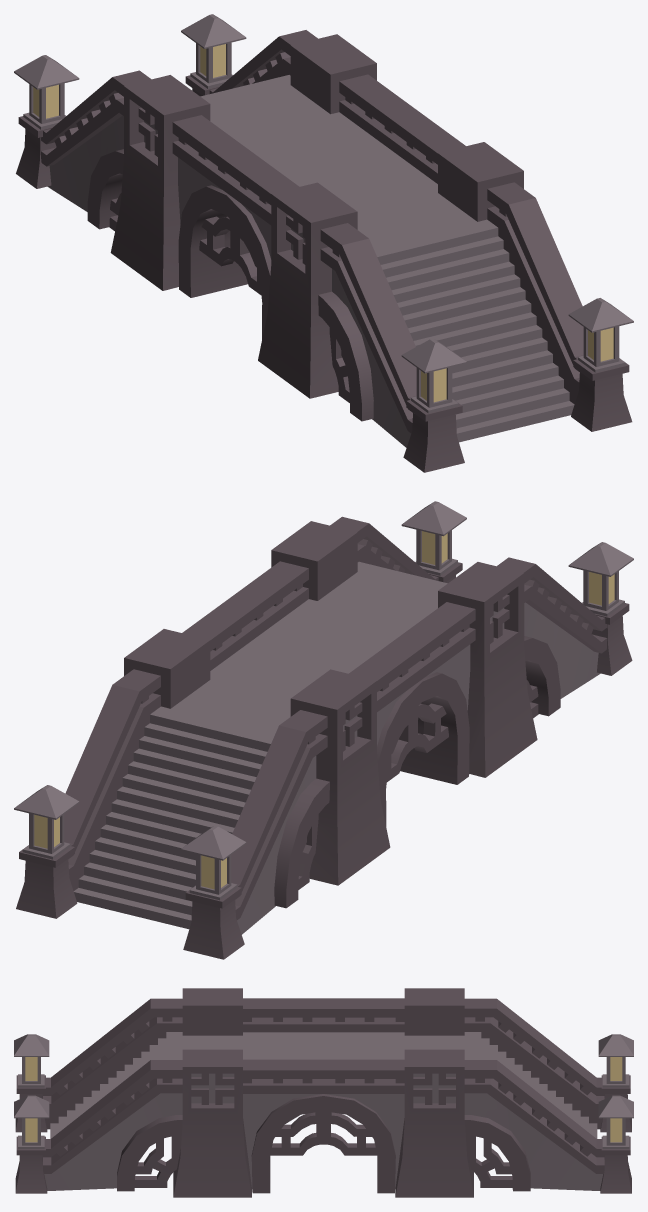
The model's file is bridge02.fbx.
The picture shows the model from 3 angles, top to bottom: view 1: azimuth 30°, elevation 25°; view 2: azimuth 150°, elevation 25°; view 3: azimuth 270°, elevation 25°; orthographic projection. The views are drawn at different scales.
Parts seen in each view (by area): view 1: bridge02; view 2: bridge02; view 3: bridge02.
Boxes of the visible parts, bbox=[...] form: bridge02: bbox=[14, 14, 633, 472]; bridge02: bbox=[14, 501, 633, 959]; bridge02: bbox=[14, 988, 633, 1197].
Size of the model in its own units: 499 by 364 by 1561.
